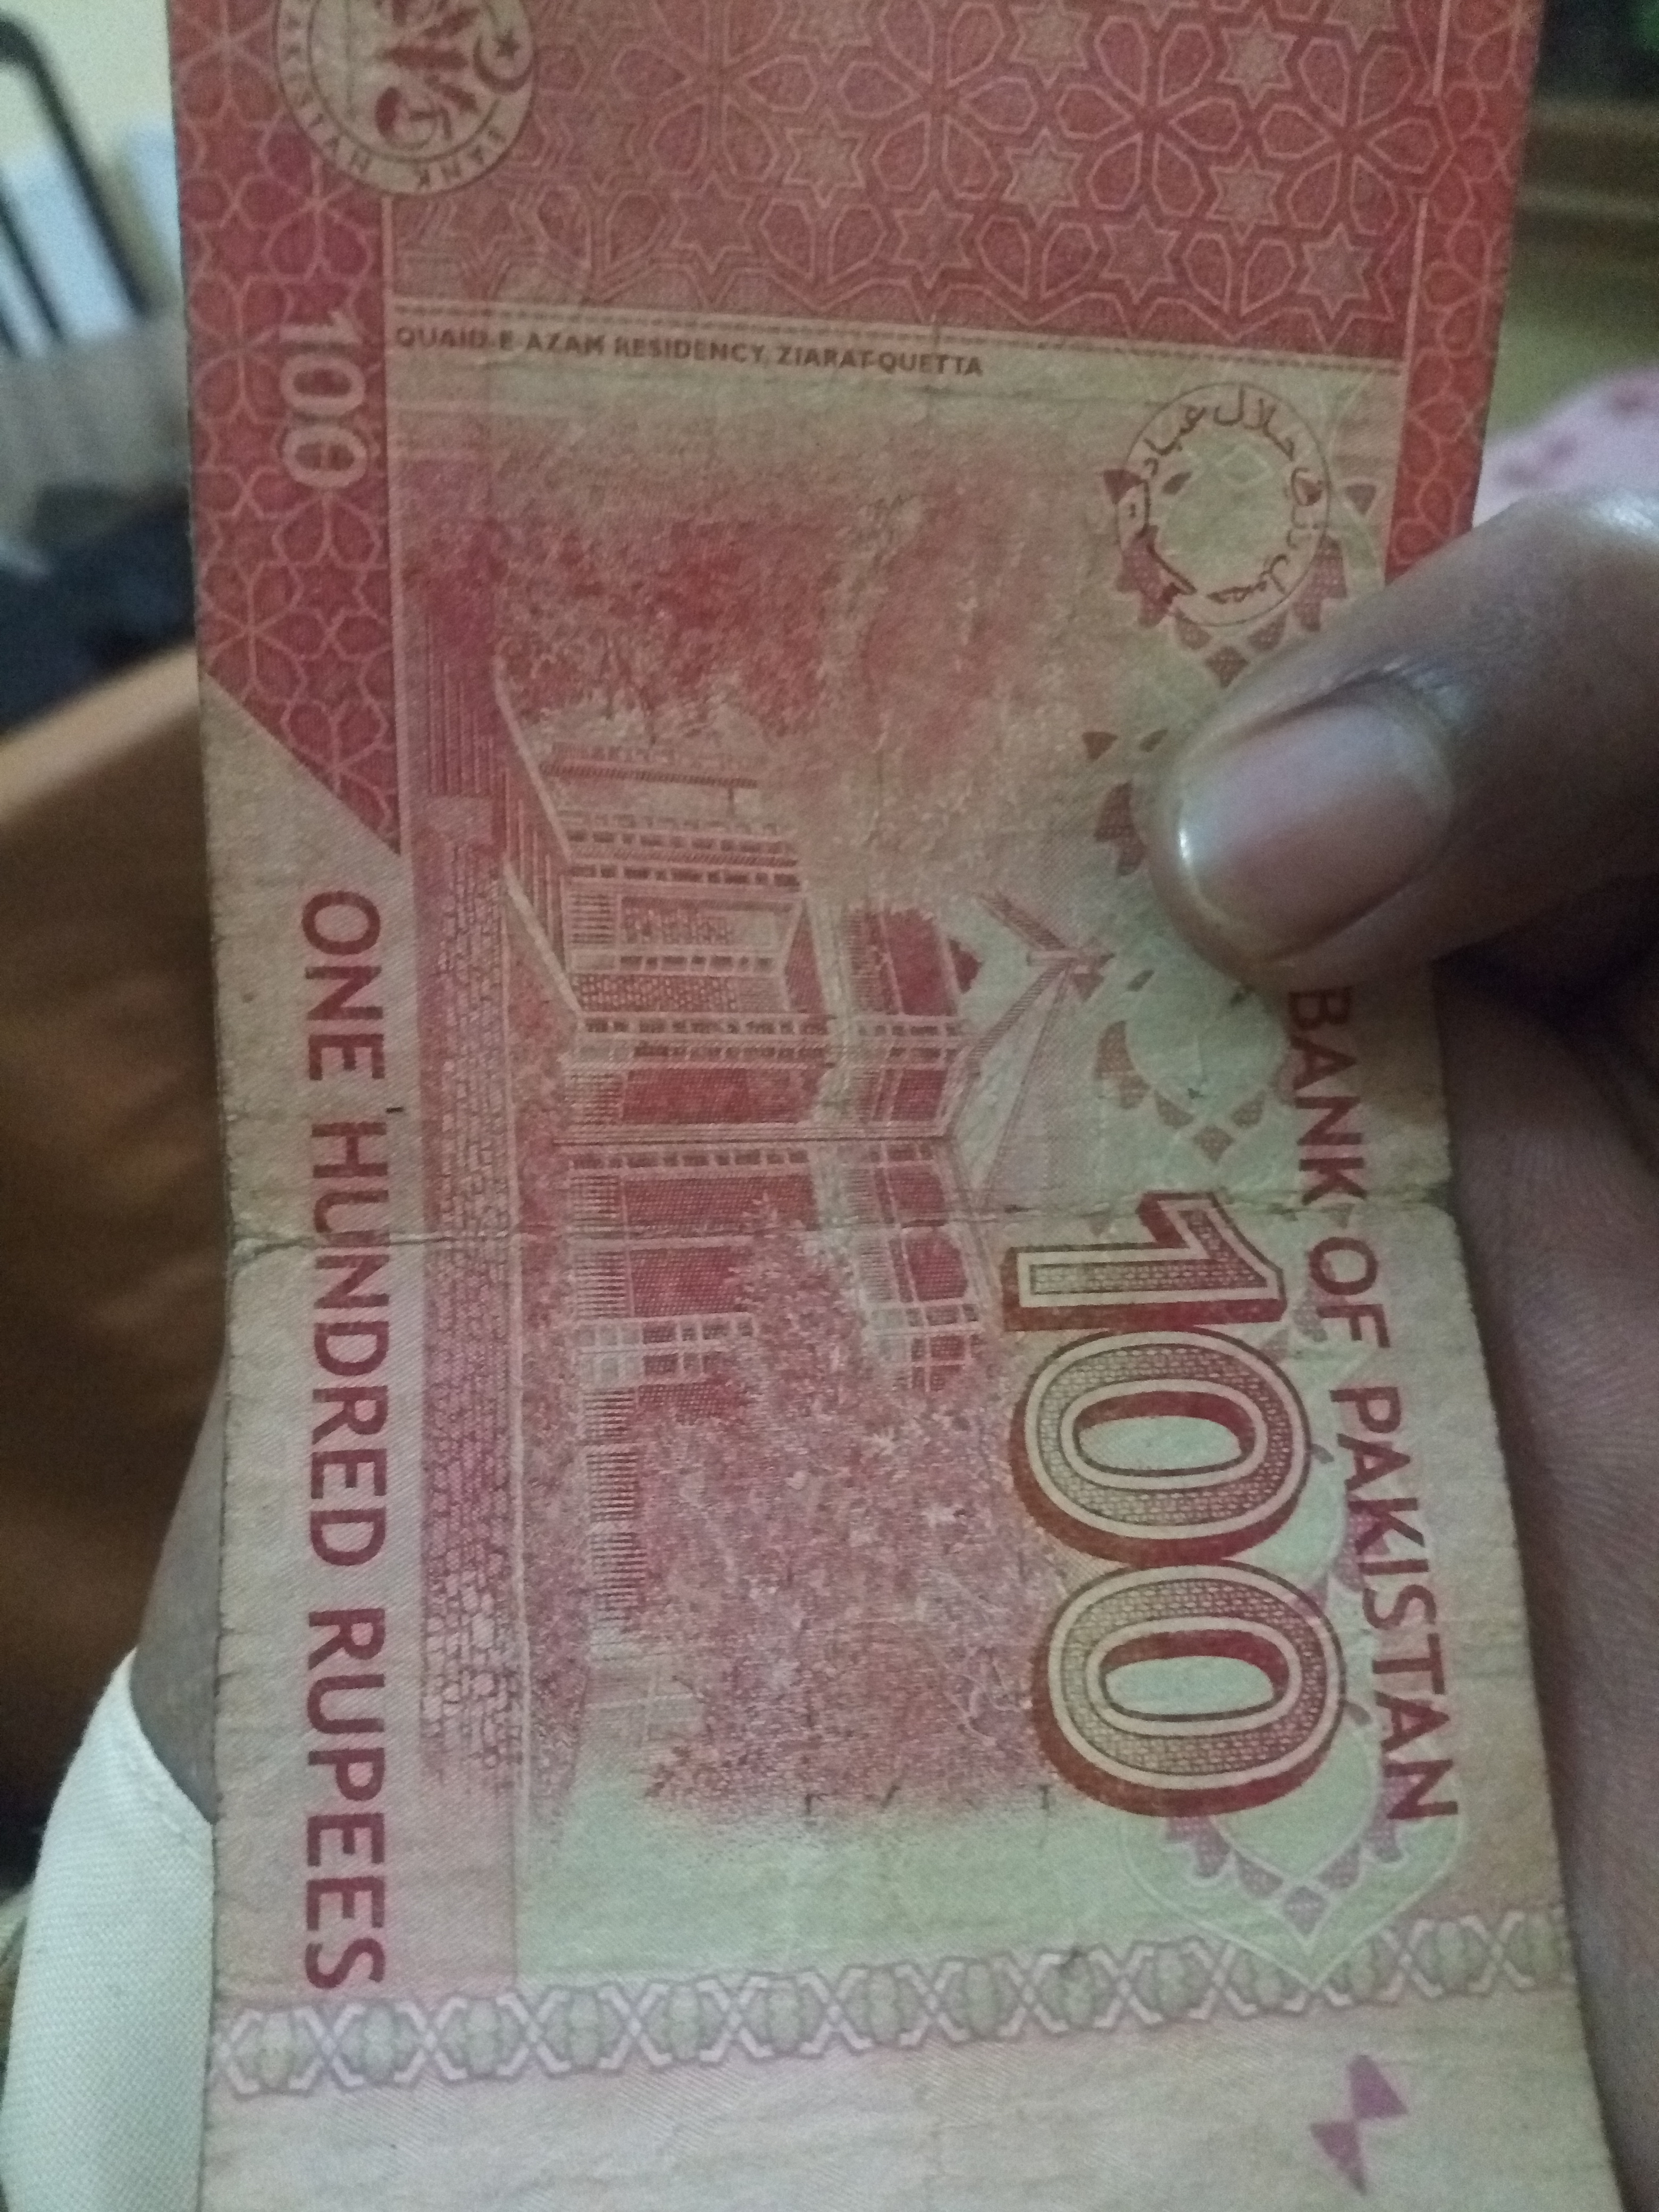100 rupee: (199, 5, 1588, 2212)
